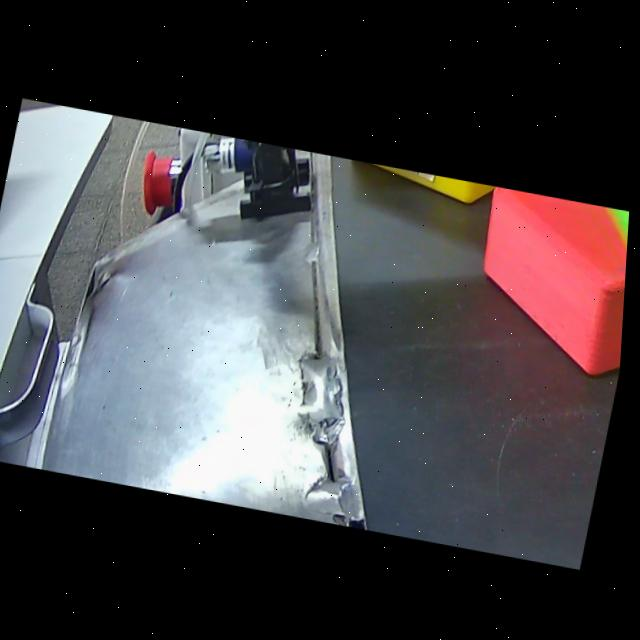greenBox: (563, 197, 632, 340)
redBox: (460, 180, 632, 376)
yellowBox: (331, 154, 539, 218)
